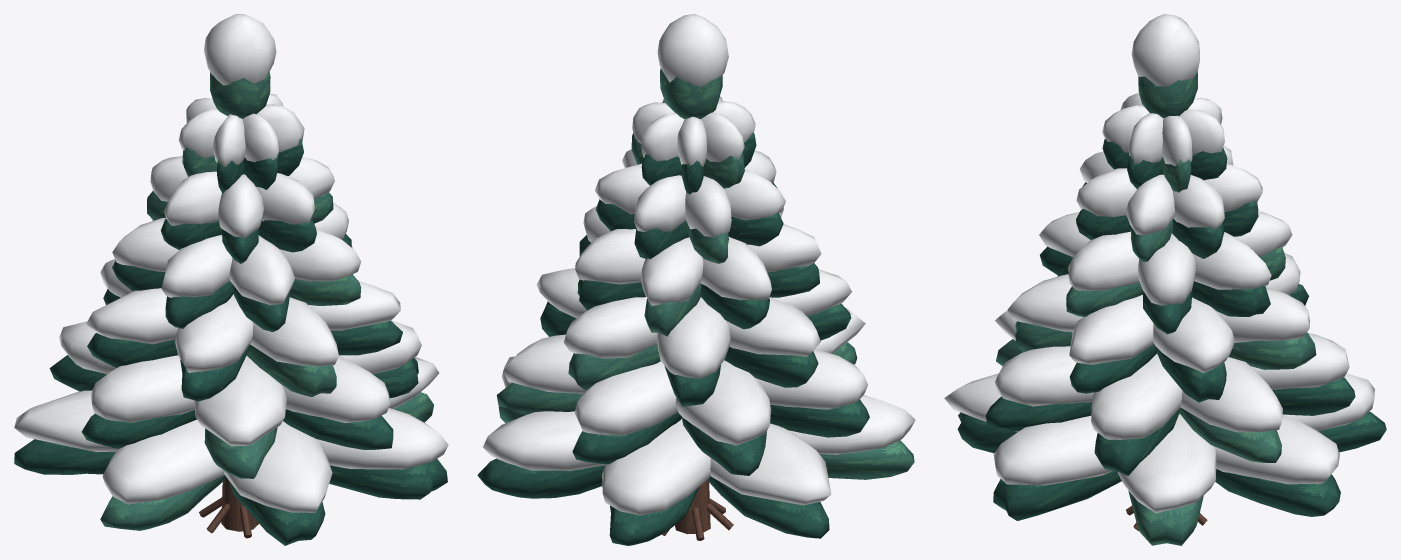
File: tree_2.glb
The picture shows the model from 3 angles, left to right: view 1: azimuth 30°, elevation 25°; view 2: azimuth 150°, elevation 25°; view 3: azimuth 270°, elevation 25°; orthographic projection.
Parts seen in each view (by area): view 1: tree_2; view 2: tree_2; view 3: tree_2.
Boxes of the visible parts, x1,y1,x2,y2 form: tree_2: (14,14,448,545); tree_2: (477,14,915,545); tree_2: (944,14,1386,545).
Bounding box in the file's own units: 2.81 × 3.64 × 2.89.
1 material, 1 textured.
